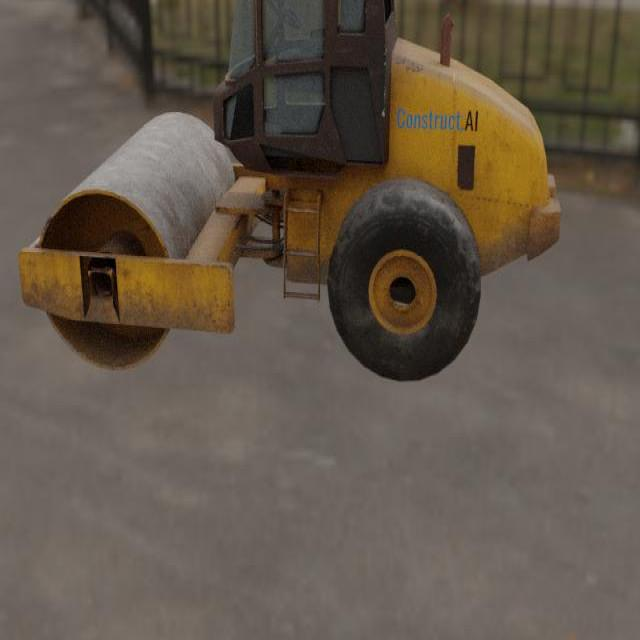Roller: (17, 0, 561, 383)
